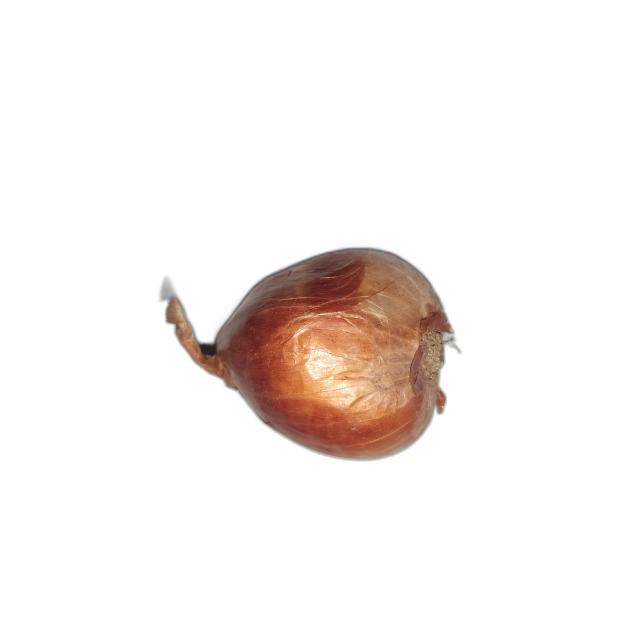onion: (165, 248, 456, 461)
